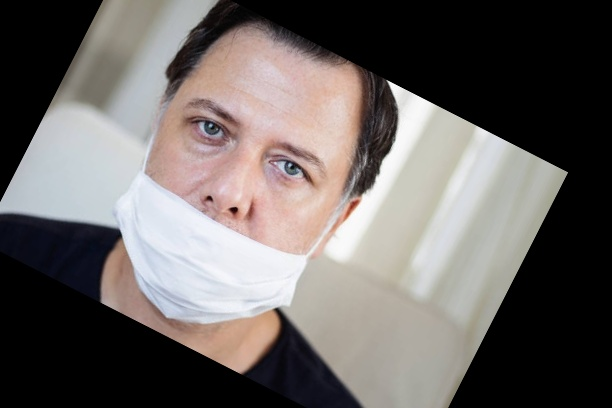mask_weared_incorrect: (133, 44, 338, 316)
